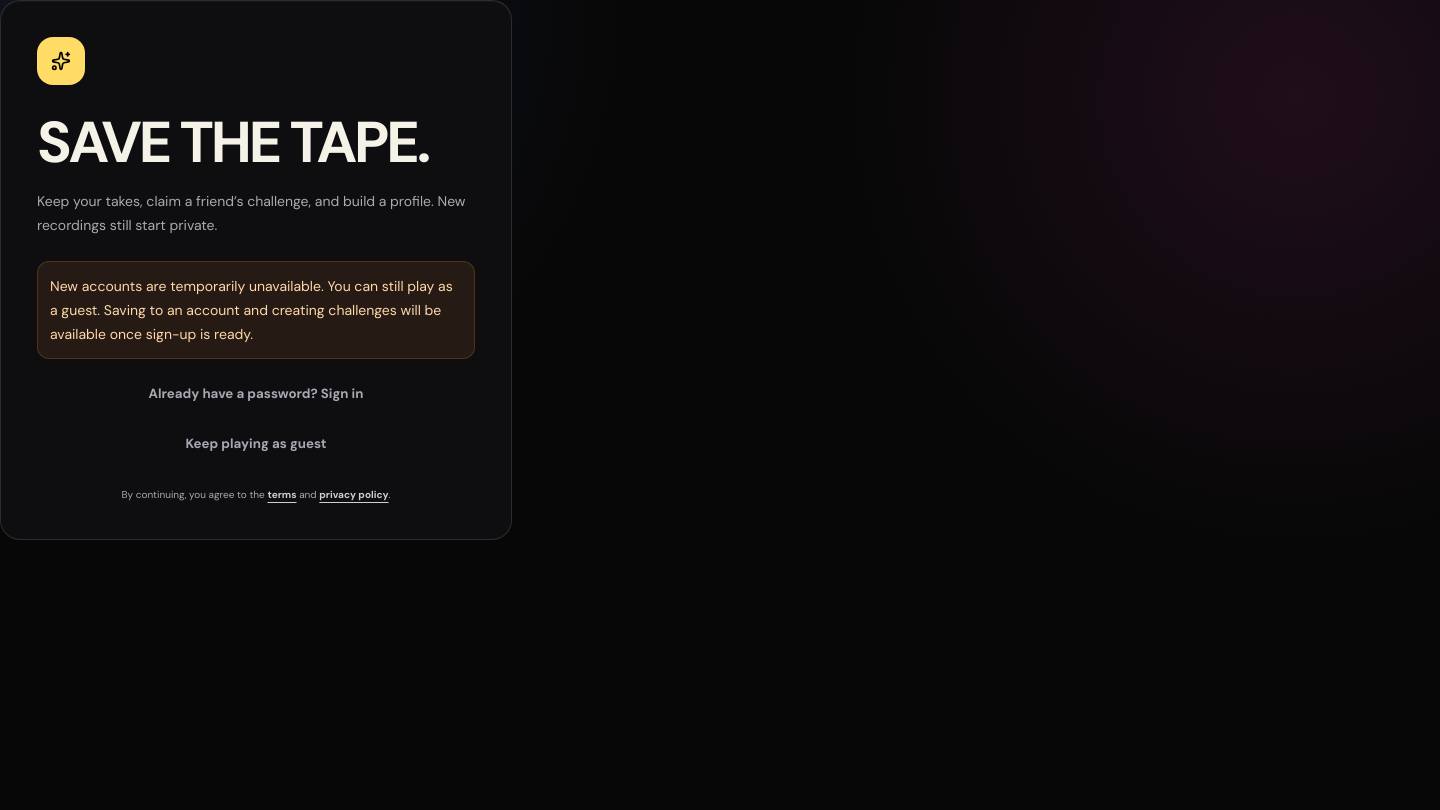
Test: connected sign-in recovery › does not offer unverified email signup or password recovery
Expected: the message shows "New accounts are temporarily unavailable", [50,277,453,343]
Click the button "Already have a password? Sign in". click: coordinates (256, 394)
box: [37,371,475,417]
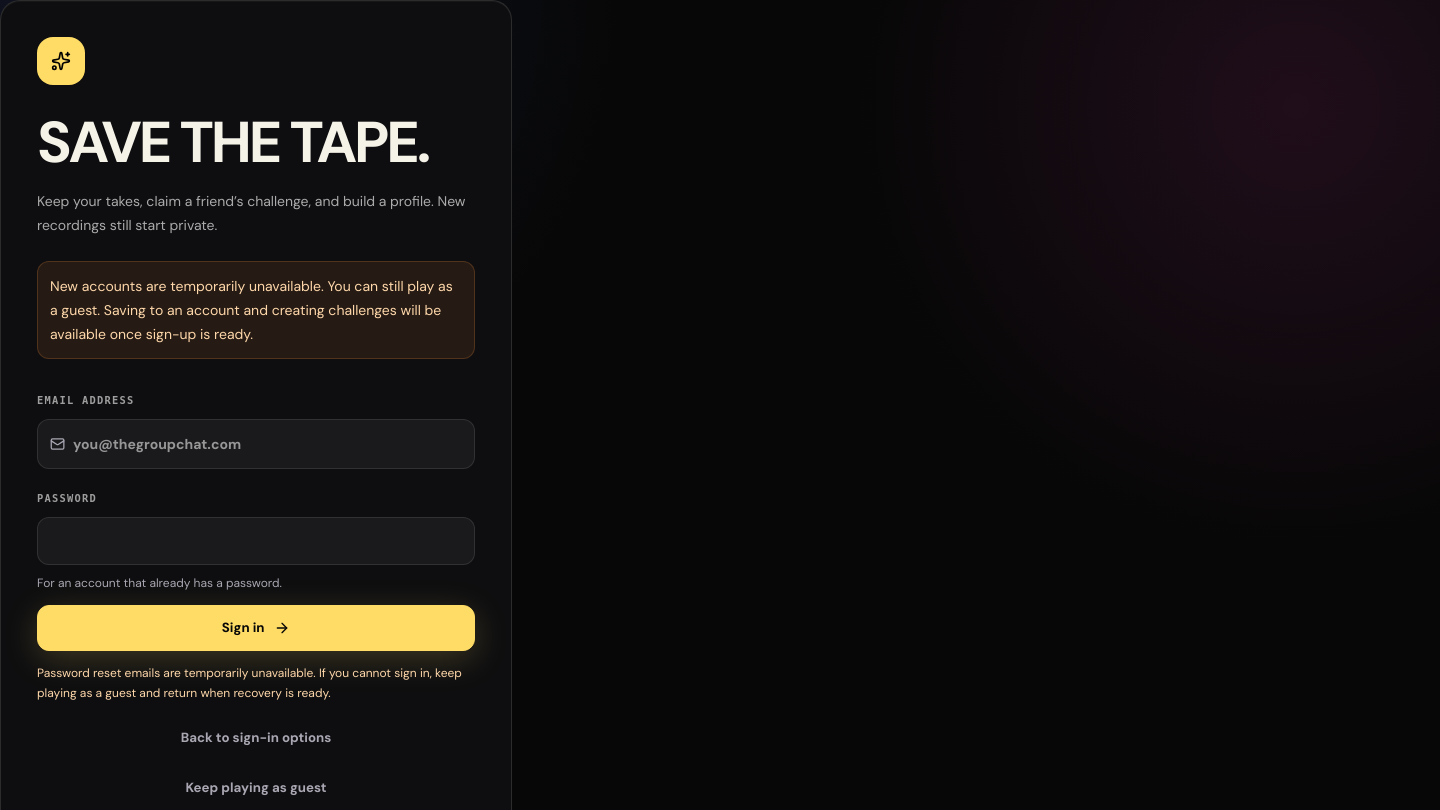
Result: the text "Password reset emails are temporarily unavailable" is shown at [37,665,462,701]
